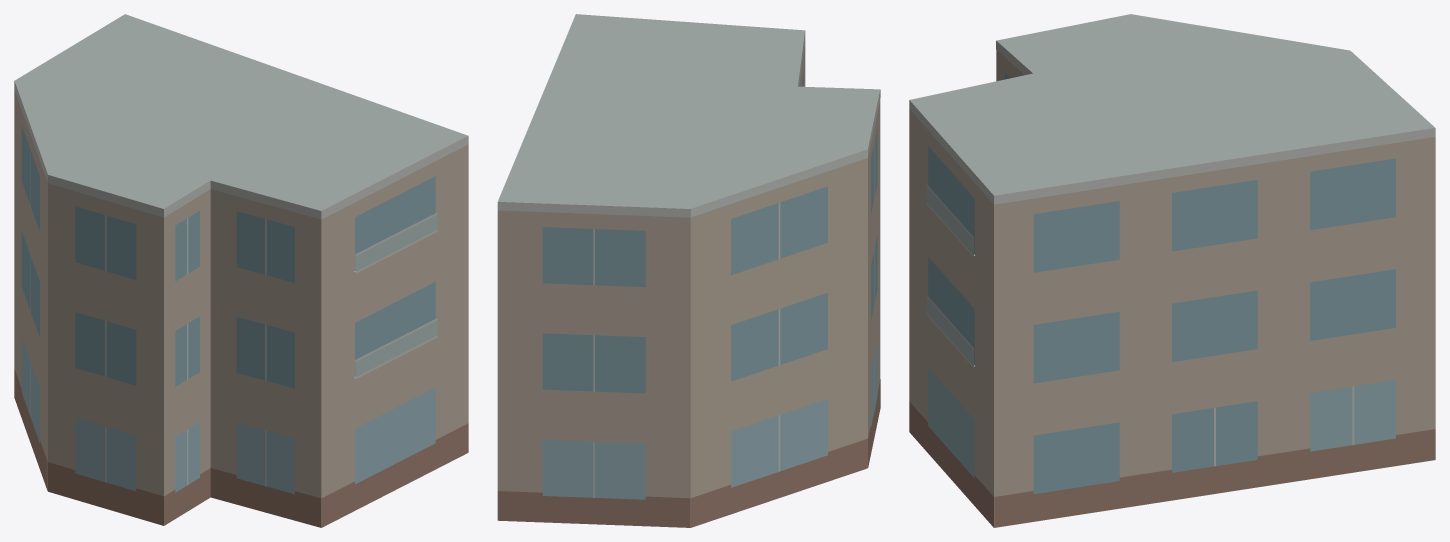
Rendered from survey-upis-32503428.glb.
The picture shows the model from 3 angles, left to right: view 1: azimuth 30°, elevation 25°; view 2: azimuth 150°, elevation 25°; view 3: azimuth 270°, elevation 25°; orthographic projection. The views are drawn at different scales.
Visible parts, largest first — view 1: survey-upis-32503428.tmp; view 2: survey-upis-32503428.tmp; view 3: survey-upis-32503428.tmp.
Boxes of the visible parts, x1,y1,x2,y2 form: survey-upis-32503428.tmp: (14, 14, 468, 527); survey-upis-32503428.tmp: (497, 14, 880, 527); survey-upis-32503428.tmp: (909, 14, 1435, 527).
Bounding box in the file's own units: 10.69 × 9.1 × 13.08.
